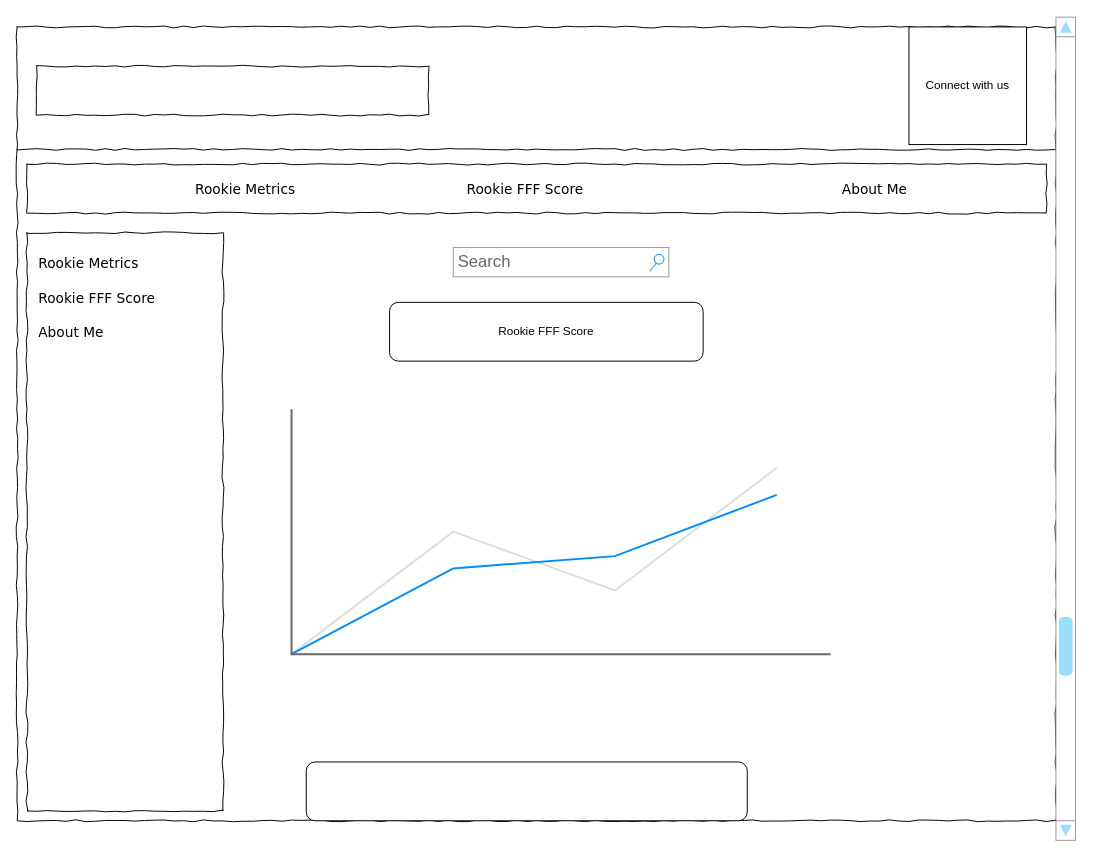
This 1093x858 diagram has some shape labels left out. Here are the shapes that lost their labels. From the top down, the centre of each, then its label:
point (232, 90): Farfan Fantasy Football
point (526, 791): logo (footer)
